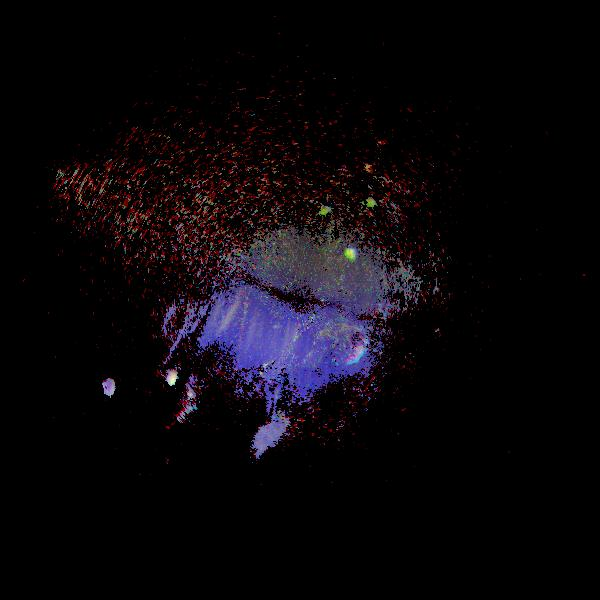roost: (100, 378, 118, 396), (161, 369, 179, 387)
